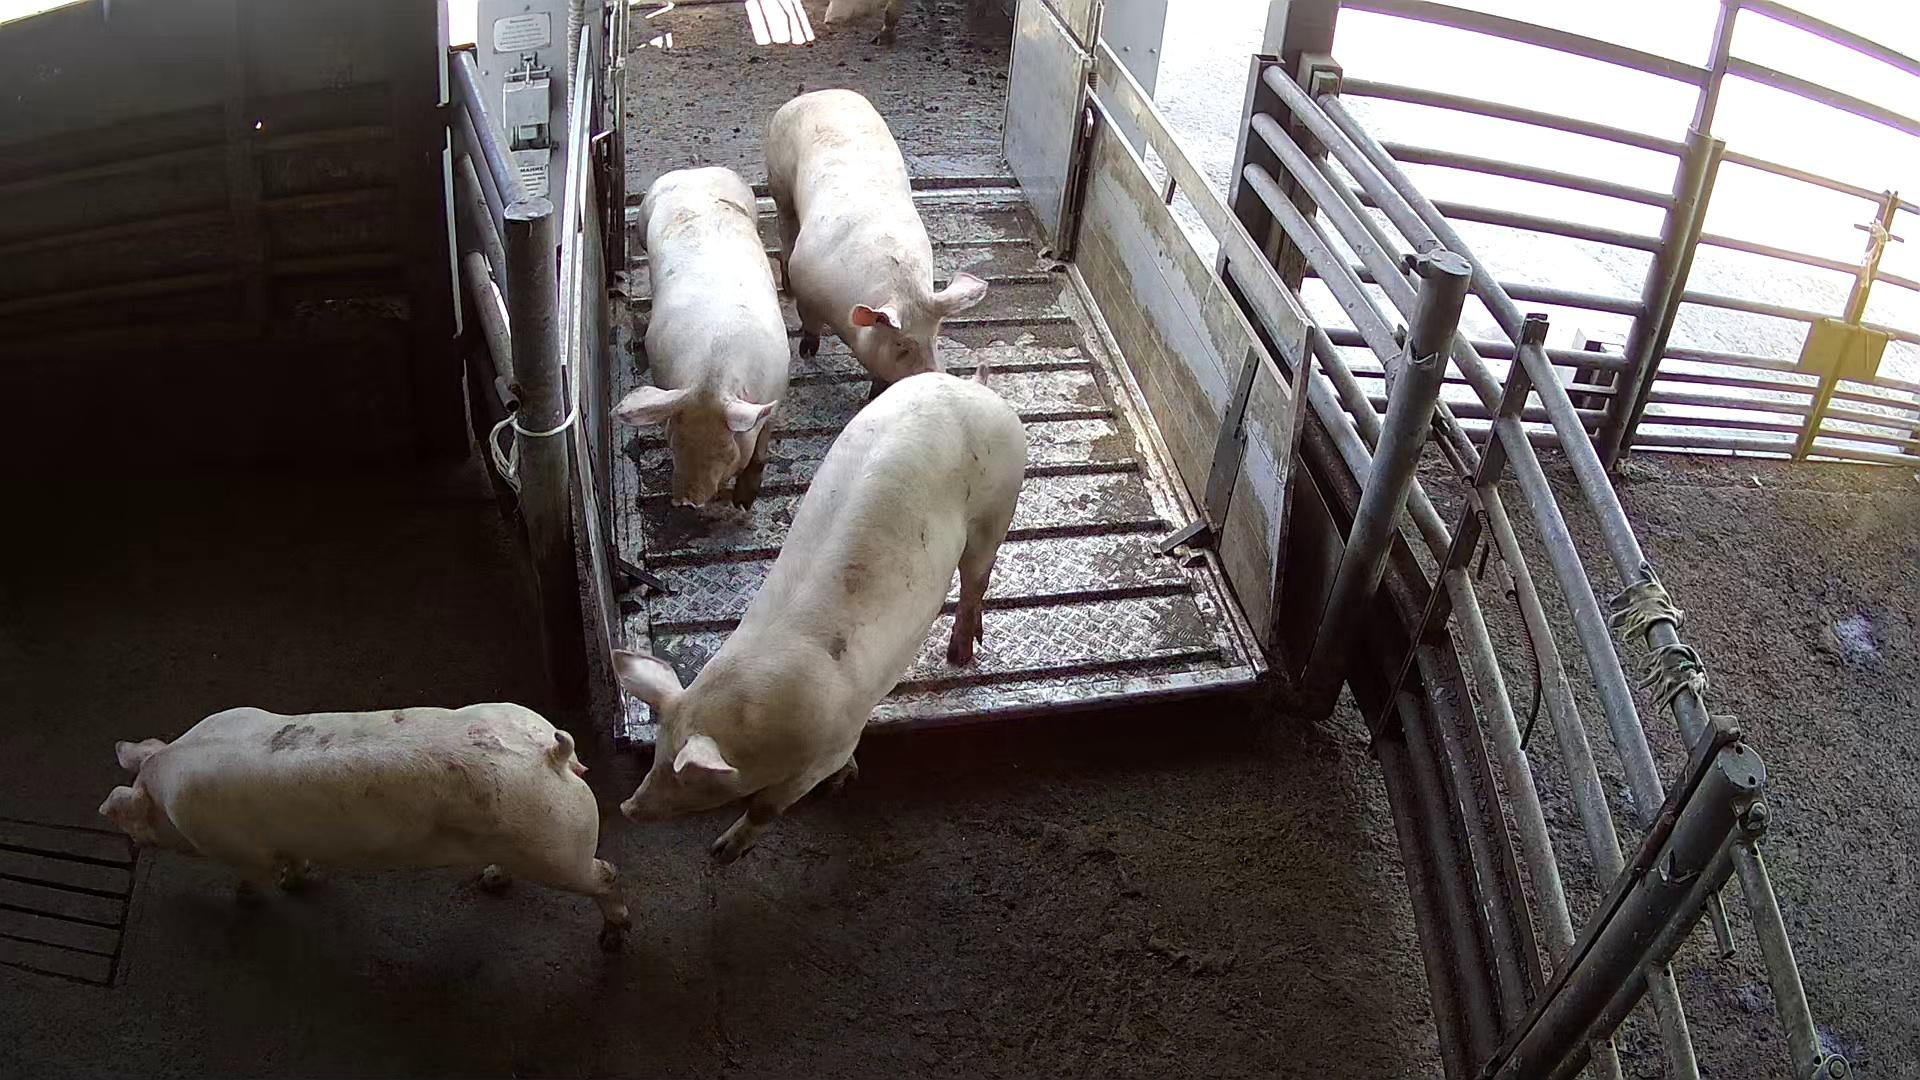Pig: (615, 371, 1027, 861), (99, 703, 629, 944), (765, 86, 989, 397), (615, 165, 789, 508), (823, 0, 902, 41)
